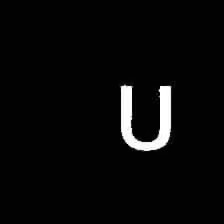LTR_U: (112, 78, 177, 155)
